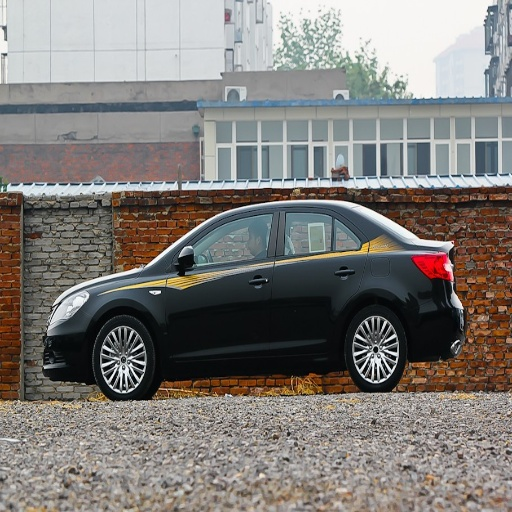back_left_door: (274, 207, 366, 346)
front_left_door: (166, 207, 277, 357)
